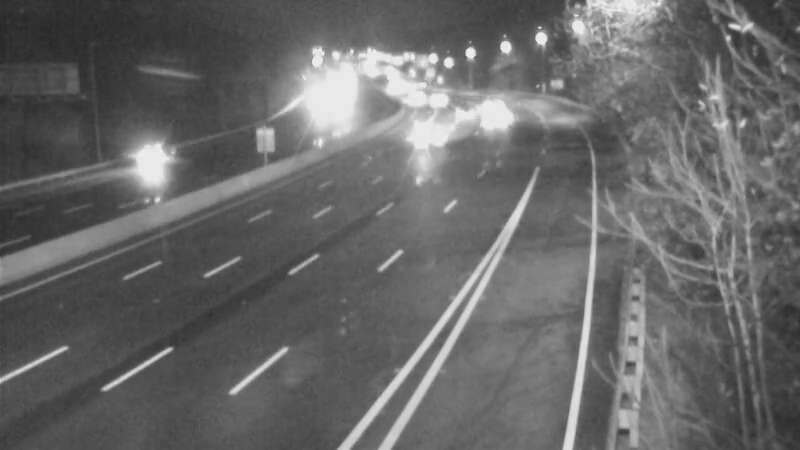vehicle: (101, 127, 181, 207), (386, 73, 436, 123), (434, 87, 484, 137), (459, 79, 509, 129), (466, 97, 516, 147), (389, 96, 439, 146), (404, 117, 454, 167)
